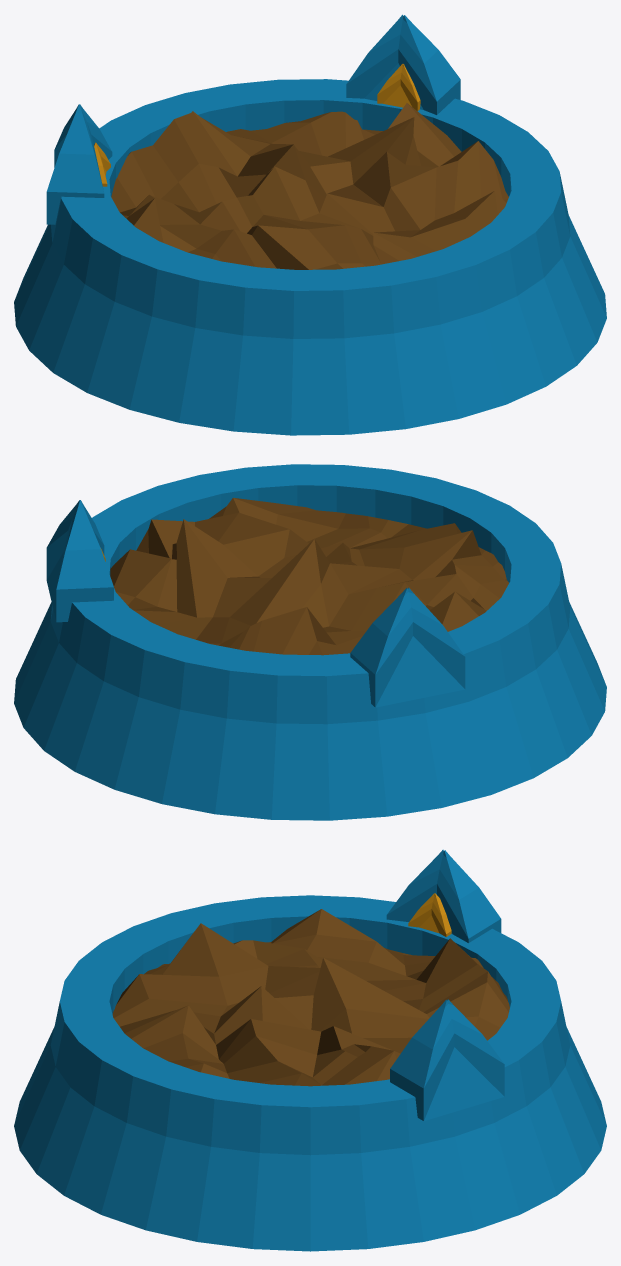
Rendered from Comida.fbx.
3 views of the same model, one above another, from view 1: azimuth 30°, elevation 25°; view 2: azimuth 150°, elevation 25°; view 3: azimuth 270°, elevation 25° (orthographic).
Parts seen in each view (by area): view 1: Circle, Plane, Cube.001, Cube, Cube.003; view 2: Circle, Plane, Cube, Cube.001; view 3: Circle, Plane, Cube.001, Cube, Cube.002.
Boxes of the visible parts, x1,y1,x2,y2 form: Circle: (14,79,606,435); Plane: (111,103,508,269); Cube.001: (346,14,460,114); Cube: (46,104,112,224); Cube.003: (377,64,420,111); Circle: (14,464,606,820); Plane: (110,497,508,655); Cube: (350,587,465,707); Cube.001: (46,500,113,622); Circle: (14,895,606,1251); Plane: (112,909,509,1086); Cube.001: (390,999,504,1120); Cube: (386,849,501,942); Cube.002: (408,893,451,936).
Size of the model in its own units: 200 by 76.41 by 200.
